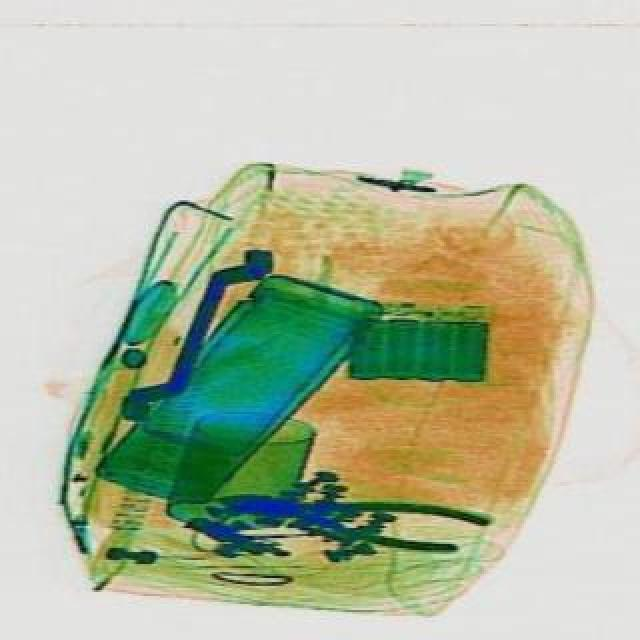wrench: (218, 478, 498, 558)
